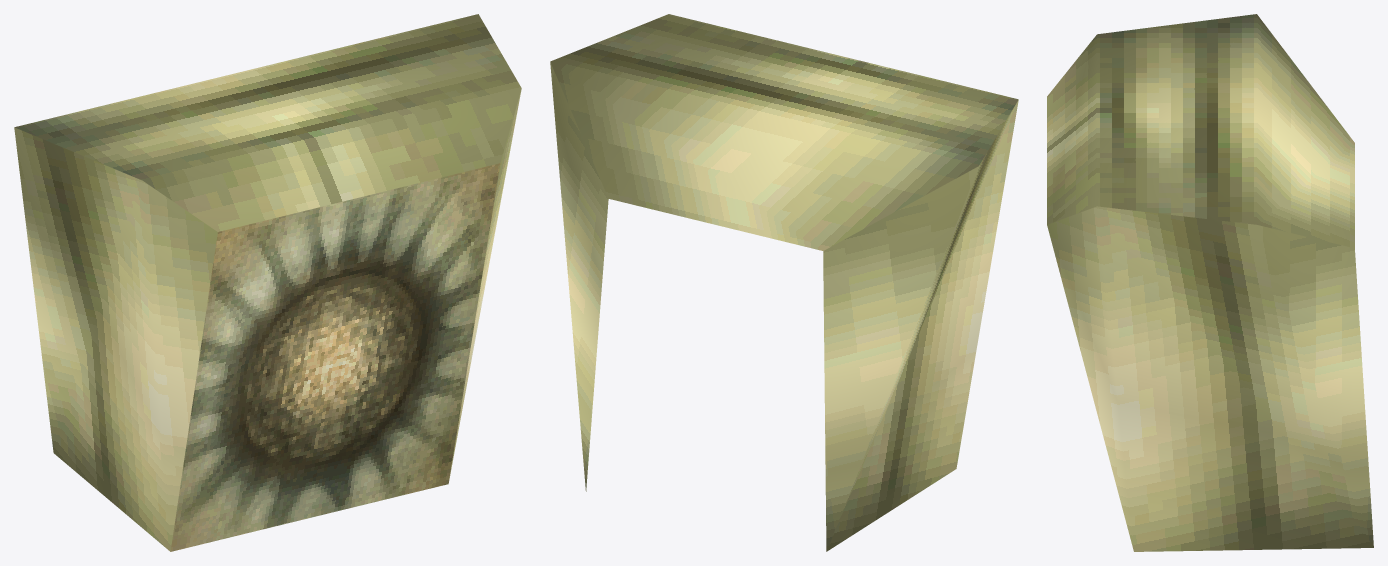
Rendered from mtrooppod_3db.gltf.
3 renders of one model, left to right at view 1: azimuth 30°, elevation 25°; view 2: azimuth 150°, elevation 25°; view 3: azimuth 270°, elevation 25°, orthographic. The views are drawn at different scales.
Parts seen in each view (by area): view 1: mtrooppod.3db; view 2: mtrooppod.3db; view 3: mtrooppod.3db.
Part boxes in pixels (box(x1,y1,x2,y2)): mtrooppod.3db: box(14, 14, 521, 551); mtrooppod.3db: box(550, 14, 1018, 551); mtrooppod.3db: box(1047, 14, 1373, 551).
Size of the model in its own units: 3.51 by 2.87 by 2.3.
1 material, 1 textured.
